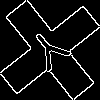Y: (25, 25, 79, 81)
